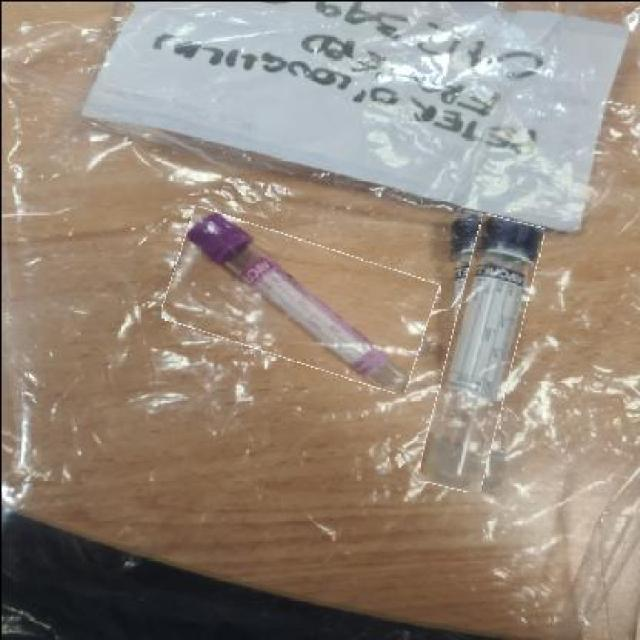Experimental-tube: (164, 224, 431, 376), (431, 213, 526, 492)
